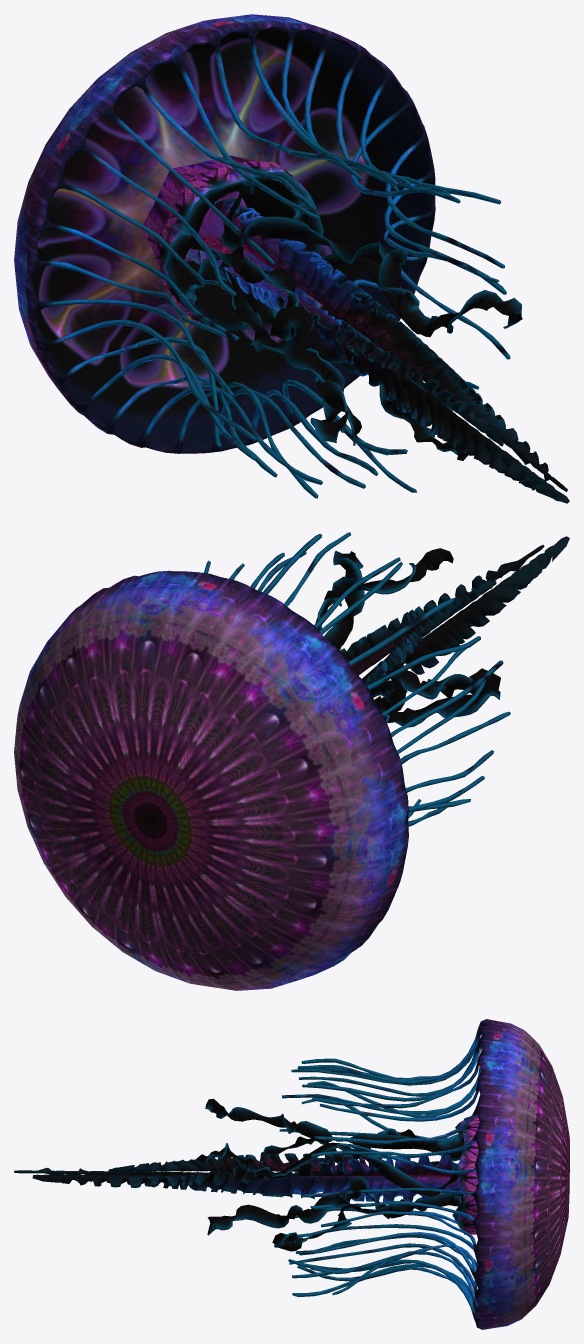
The model's file is jellyf.gltf.
3 renders of one model, top to bottom at view 1: azimuth 30°, elevation 25°; view 2: azimuth 150°, elevation 25°; view 3: azimuth 270°, elevation 25°, orthographic. The views are drawn at different scales.
Parts seen in each view (by area): view 1: model_0; view 2: model_0; view 3: model_0.
Boxes of the visible parts, x1,y1,x2,y2 form: model_0: (14, 14, 569, 503); model_0: (14, 532, 569, 990); model_0: (14, 1019, 569, 1329).
Bounding box in the file's own units: 3.56 × 3.56 × 6.37.
Materials: 1 (1 with a texture image).
